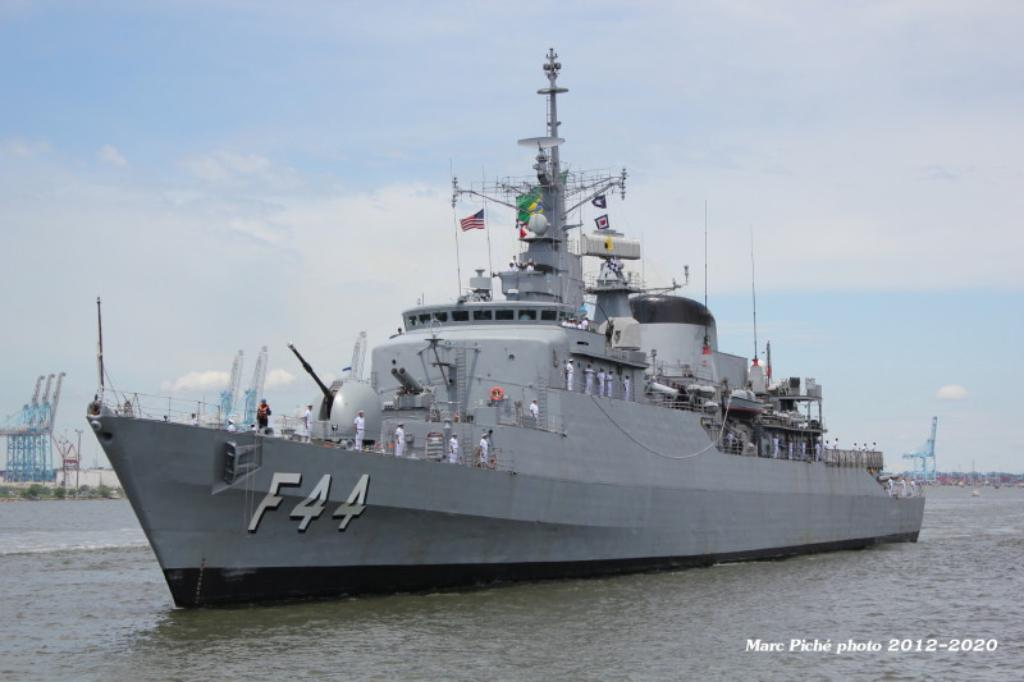Warship: (82, 40, 924, 614)
